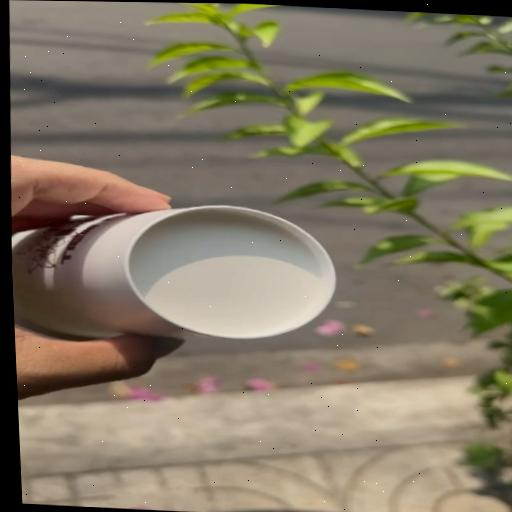Ly_giay: (11, 205, 334, 338)
